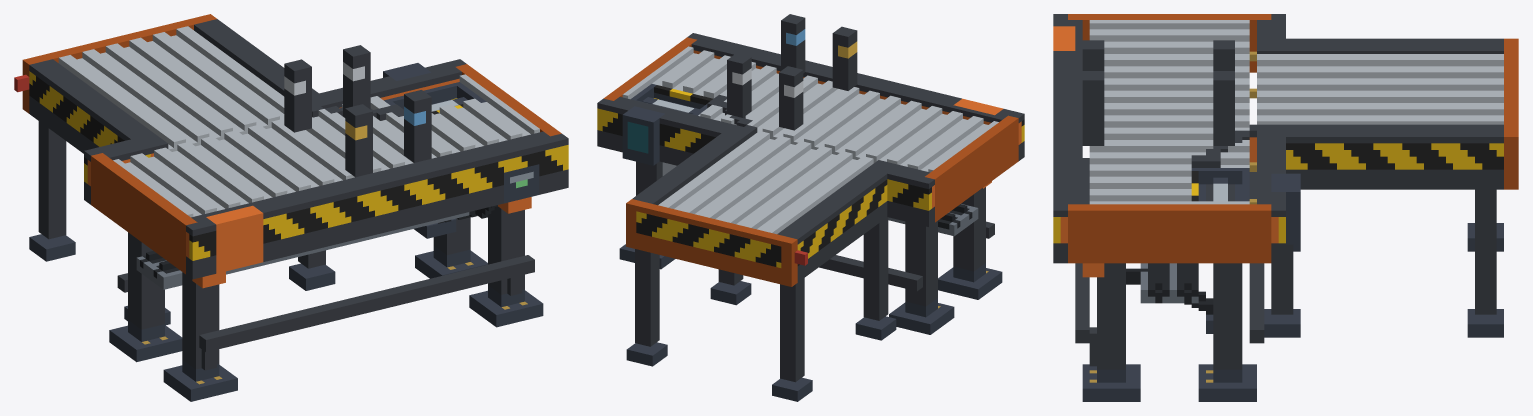
Rendered from conveyor_merge.obj.
3 views of the same model, side by side, from view 1: azimuth 30°, elevation 25°; view 2: azimuth 150°, elevation 25°; view 3: azimuth 270°, elevation 25° (orthographic). The views are drawn at different scales.
Visible parts, largest first — view 1: frame; view 2: frame; view 3: frame, transfer.
Part boxes in pixels (left/top/right/bottom): frame: left=14, top=14, right=568, bottom=401; frame: left=597, top=14, right=1024, bottom=401; frame: left=1053, top=14, right=1518, bottom=401; transfer: left=1198, top=177, right=1242, bottom=201.
Bounding box in the file's own units: 2 × 1.25 × 2.
